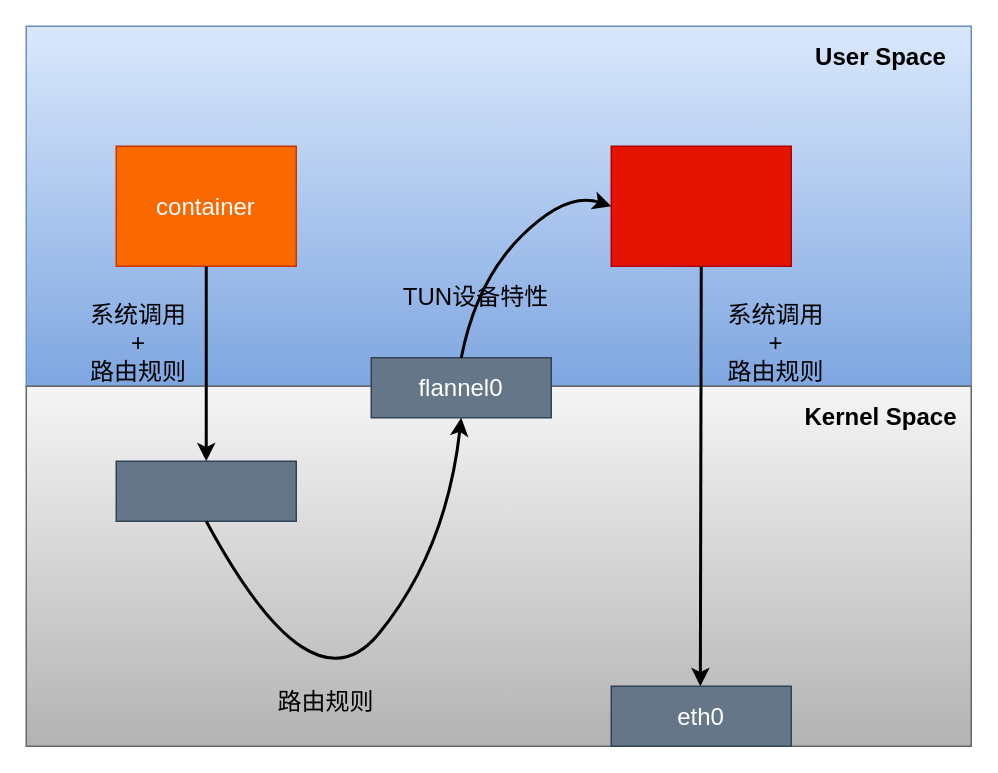
Some shapes in this 998 by 773 pixel diagram are drawn without their labels. The box of each missing label's shape, as (x1, y1, x2, y2) in pixels:
cni0: (115, 460, 296, 521)
flanneld listen：8285: (610, 145, 791, 266)
